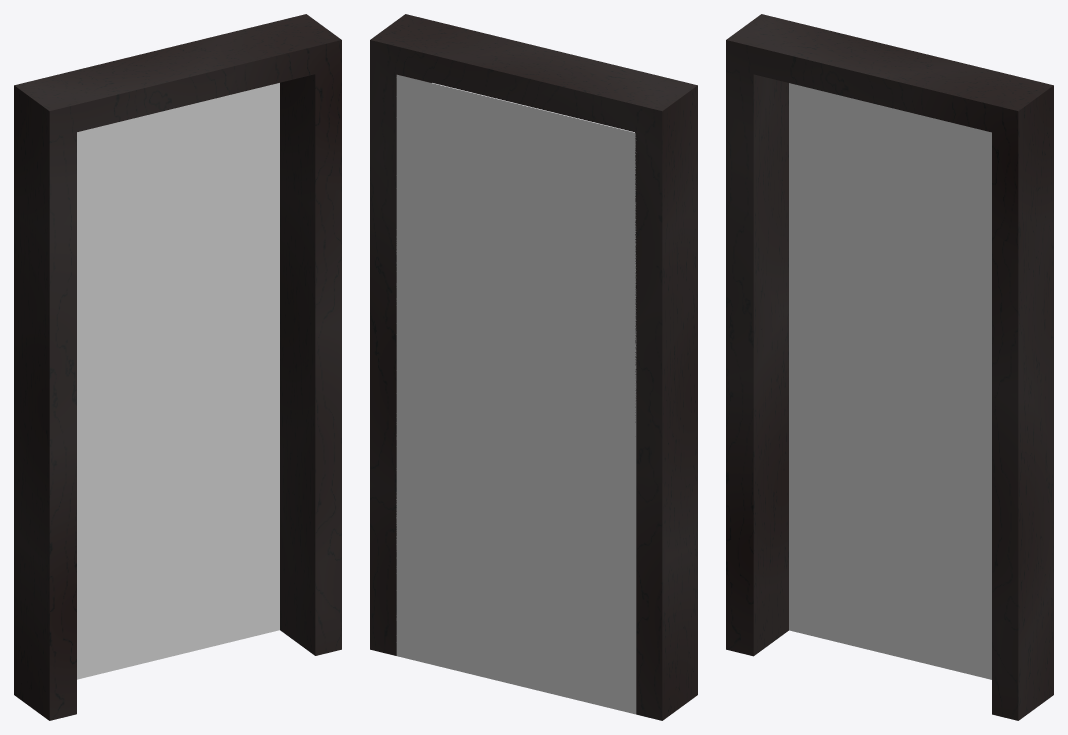
The model's file is FancyDarkWoodenDoorFrame.glb.
3 views of the same model, side by side, from view 1: azimuth 30°, elevation 25°; view 2: azimuth 150°, elevation 25°; view 3: azimuth 330°, elevation 25° (orthographic).
Visible parts, largest first — view 1: DoorPlaneMesh, DoorFrame-col; view 2: DoorPlaneMesh, DoorFrame-col; view 3: DoorPlaneMesh, DoorFrame-col.
Boxes of the visible parts, x1=… form: DoorPlaneMesh: x1=77, y1=83, x2=279, y2=679; DoorFrame-col: x1=14, y1=14, x2=341, y2=720; DoorPlaneMesh: x1=396, y1=74, x2=636, y2=714; DoorFrame-col: x1=370, y1=14, x2=697, y2=720; DoorPlaneMesh: x1=789, y1=83, x2=991, y2=679; DoorFrame-col: x1=726, y1=14, x2=1053, y2=720.
Size of the model in its own units: 1.1 by 2.2 by 0.2317.
Materials: 2 (1 with a texture image).
